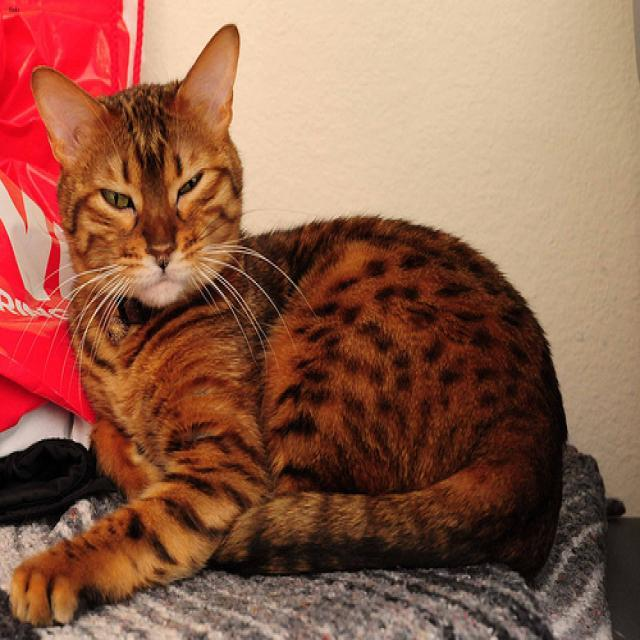Bengal: (21, 16, 252, 311)
